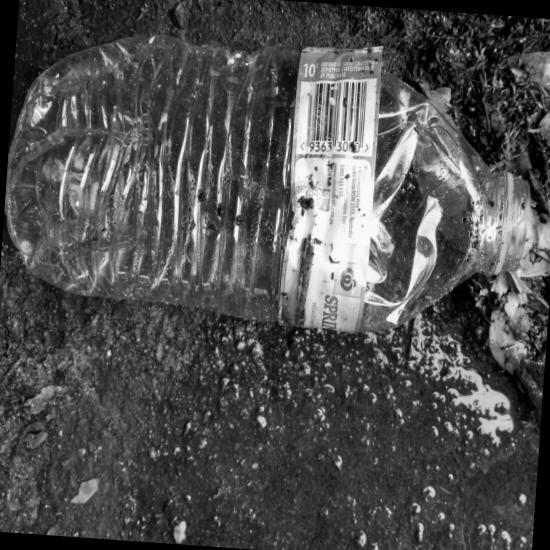Other plastic: (155, 334, 168, 349)
Other plastic bottle: (141, 92, 154, 116)
Unlabeled litter: (181, 341, 209, 373)
